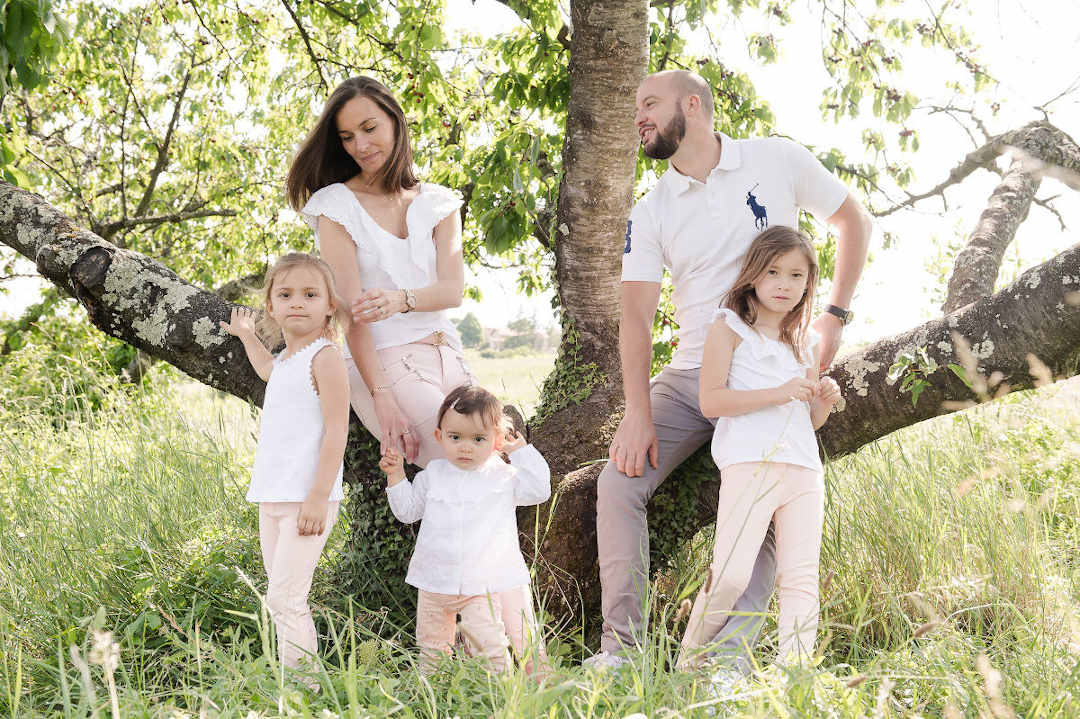without_mask: (629, 91, 698, 164), (335, 113, 403, 171), (267, 275, 329, 335), (441, 418, 500, 475), (755, 251, 811, 310)
